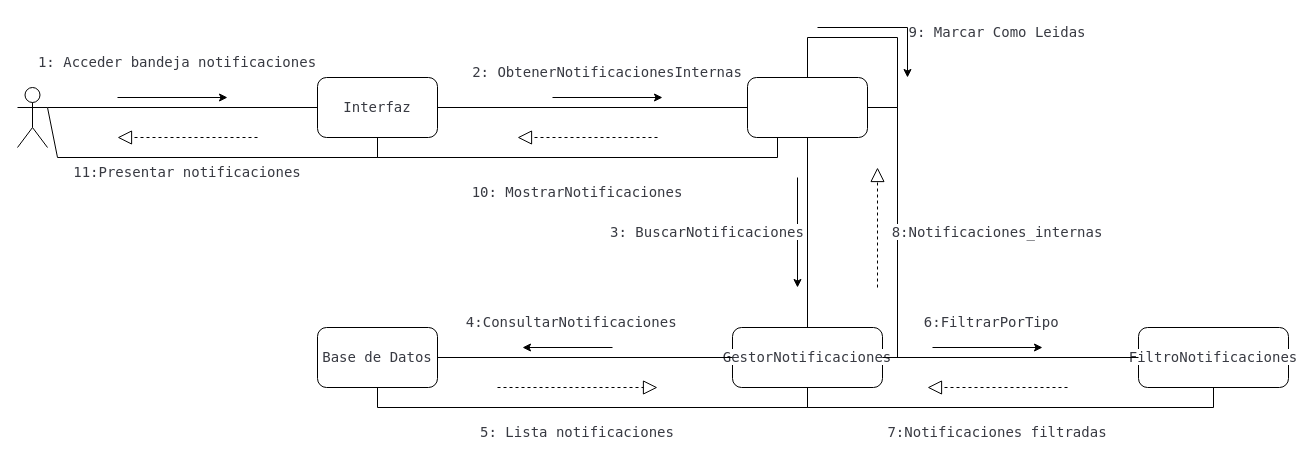
This 1315x464 diagram has some shape labels left out. Here are the shapes that lost their labels. From the top down, the centre of each, then its label:
At (x=32, y=117): "Actor".
At (x=807, y=107): "Controlador".
